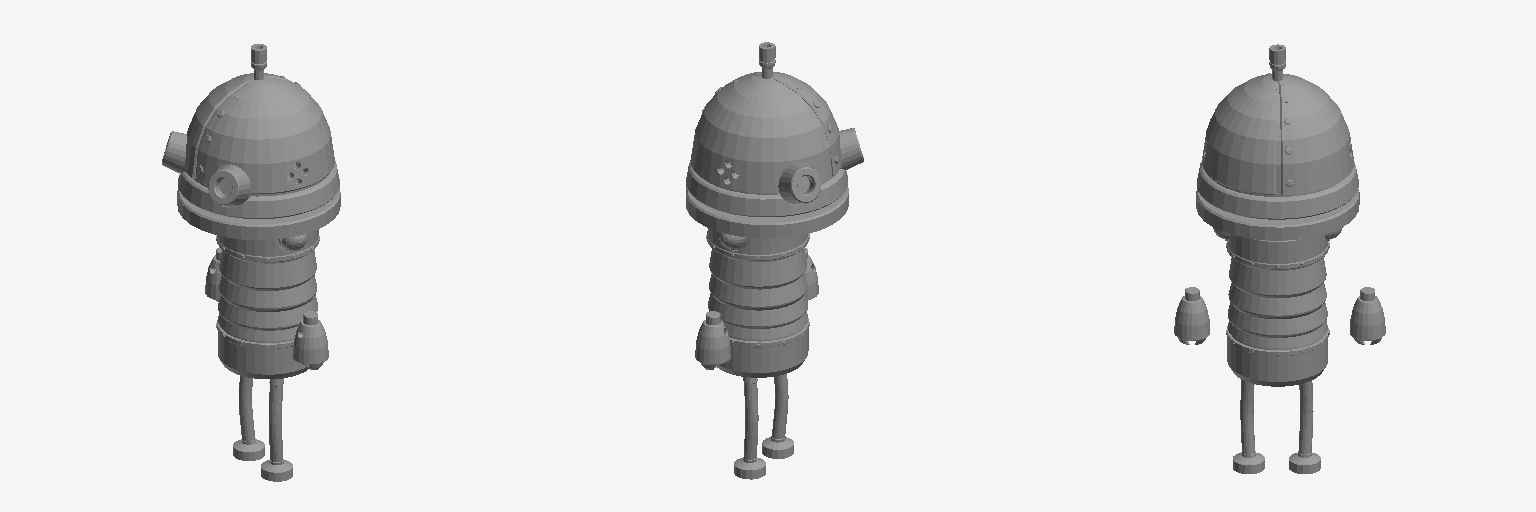
The model's file is Joseph.obj.
3 renders of one model, left to right at view 1: azimuth 30°, elevation 25°; view 2: azimuth 150°, elevation 25°; view 3: azimuth 270°, elevation 25°, orthographic.
Parts seen in each view (by area): view 1: Head, Body, HandLeft, HandRight; view 2: Head, Body, HandRight; view 3: Head, Body, HandRight, HandLeft.
Part boxes in pixels (bbox=[...]): Head: bbox=[162, 44, 340, 239]; Body: bbox=[216, 229, 319, 481]; HandLeft: bbox=[293, 311, 328, 369]; HandRight: bbox=[205, 247, 221, 301]; Head: bbox=[686, 42, 863, 238]; Body: bbox=[706, 228, 809, 479]; HandRight: bbox=[695, 311, 730, 369]; Head: bbox=[1196, 44, 1359, 240]; Body: bbox=[1213, 227, 1342, 473]; HandRight: bbox=[1350, 287, 1385, 344]; HandLeft: bbox=[1174, 287, 1209, 344].
Size of the model in its own units: 1.18 by 3.23 by 1.49.